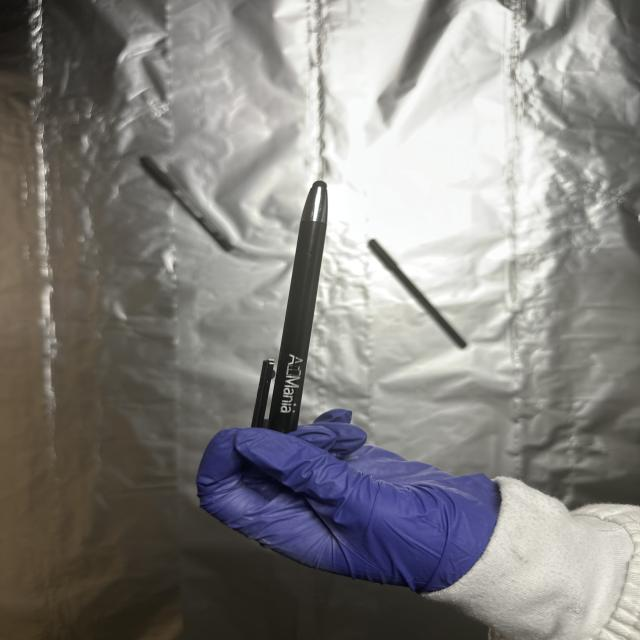gloves_contaminated: (197, 410, 500, 592)
